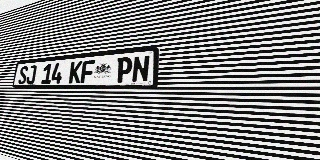plate: (12, 46, 160, 88)
